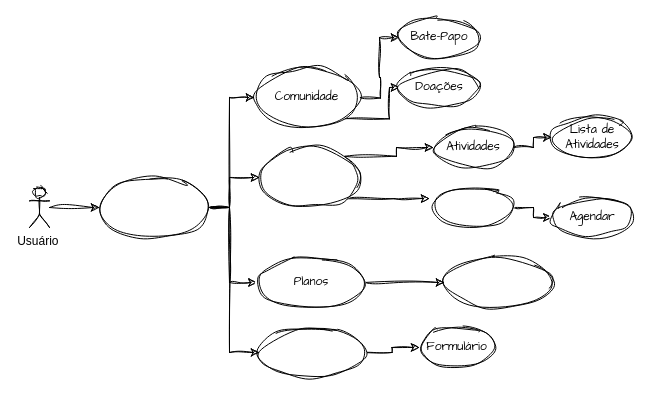
Some shapes in this 650 by 395 pixel diagram are drawn without their labels. Each missing label, with the centre of its shape:
Contato: the point at 311,352
Desenvolvimento: the point at 309,177
Profissionais: the point at 473,207
Página Inicial: the point at 154,207
Tela de Pagamento: the point at 498,282
